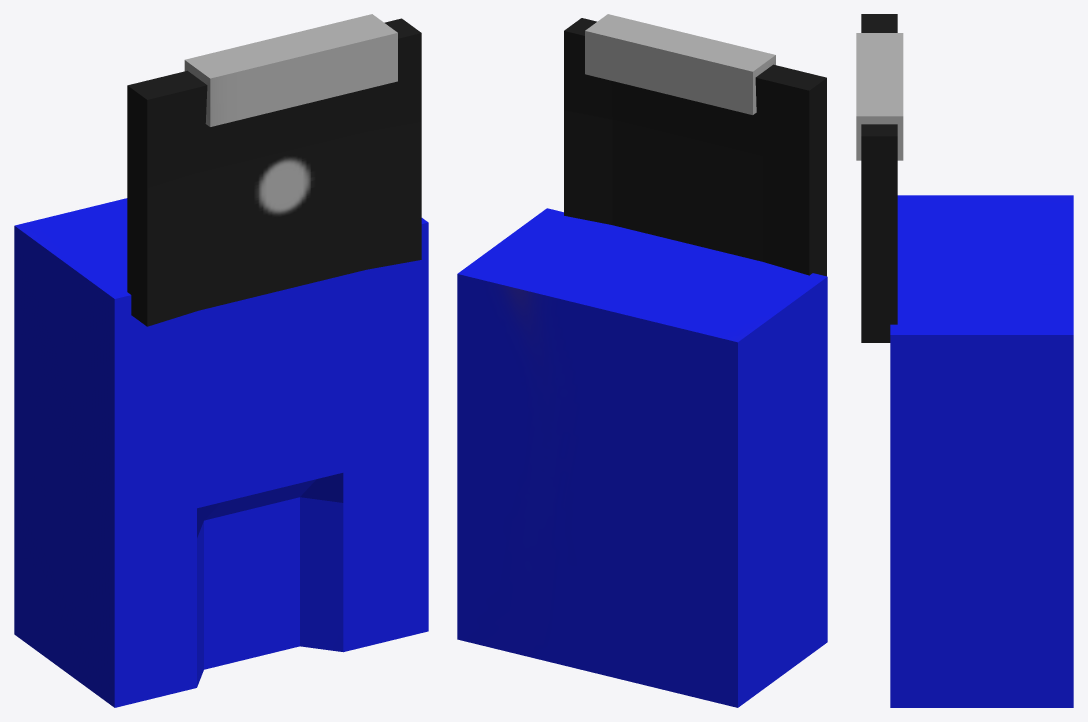
Rendered from save.fbx.
The picture shows the model from 3 angles, left to right: view 1: azimuth 30°, elevation 25°; view 2: azimuth 150°, elevation 25°; view 3: azimuth 270°, elevation 25°; orthographic projection. The views are drawn at different scales.
Visible parts, largest first — view 1: Cube.007, Cube.009; view 2: Cube.007, Cube.009; view 3: Cube.007, Cube.009.
Boxes of the visible parts, x1=… form: Cube.007: x1=14, y1=198, x2=428, y2=707; Cube.009: x1=127, y1=14, x2=421, y2=326; Cube.007: x1=457, y1=208, x2=827, y2=707; Cube.009: x1=564, y1=14, x2=826, y2=276; Cube.007: x1=890, y1=195, x2=1073, y2=707; Cube.009: x1=856, y1=14, x2=903, y2=342.
Size of the model in its own units: 570 by 1083 by 374.
